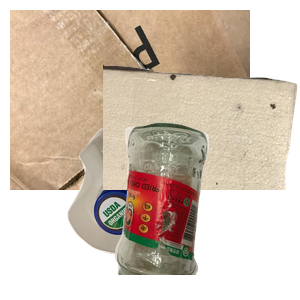cardboard: (10, 10, 250, 190)
glass: (112, 120, 300, 300)
plastic: (65, 123, 257, 300)
trash: (103, 62, 300, 242)
